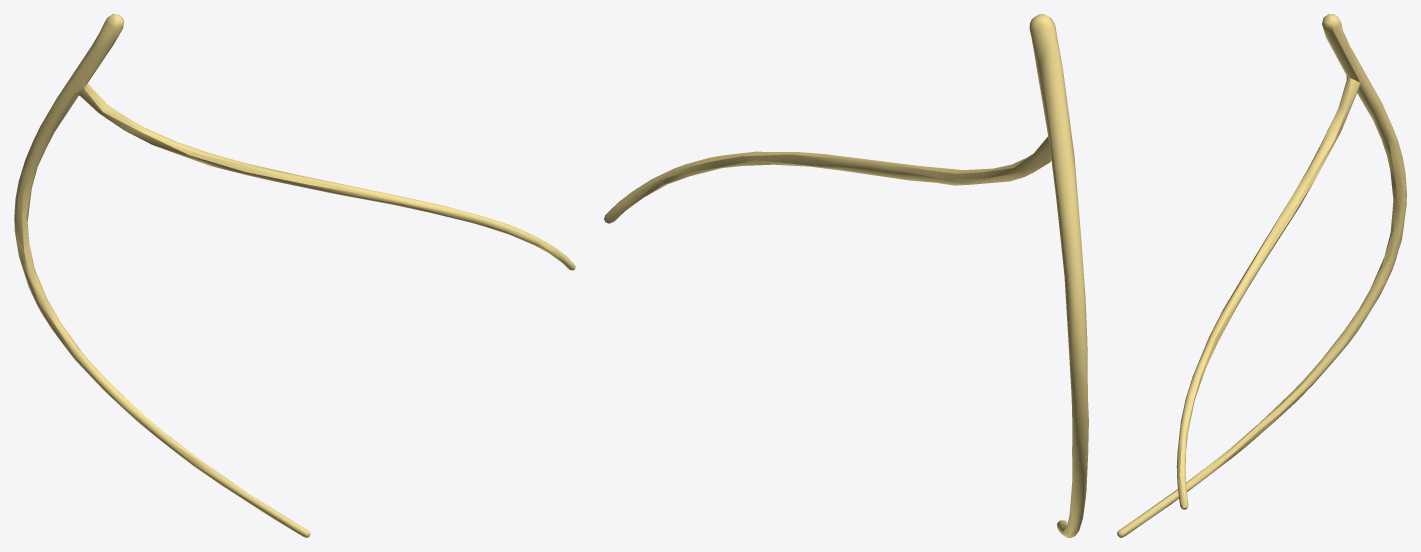
The model's file is fma53109_fj3995.glb.
The picture shows the model from 3 angles, left to right: view 1: azimuth 30°, elevation 25°; view 2: azimuth 150°, elevation 25°; view 3: azimuth 270°, elevation 25°; orthographic projection. The views are drawn at different scales.
Parts seen in each view (by area): view 1: FMA53109_FJ3995; view 2: FMA53109_FJ3995; view 3: FMA53109_FJ3995.
Boxes of the visible parts, bbox=[...] form: FMA53109_FJ3995: bbox=[14, 14, 575, 537]; FMA53109_FJ3995: bbox=[604, 14, 1088, 537]; FMA53109_FJ3995: bbox=[1117, 14, 1406, 537].
Size of the model in its own units: 0.0185 by 0.0182 by 0.01.
